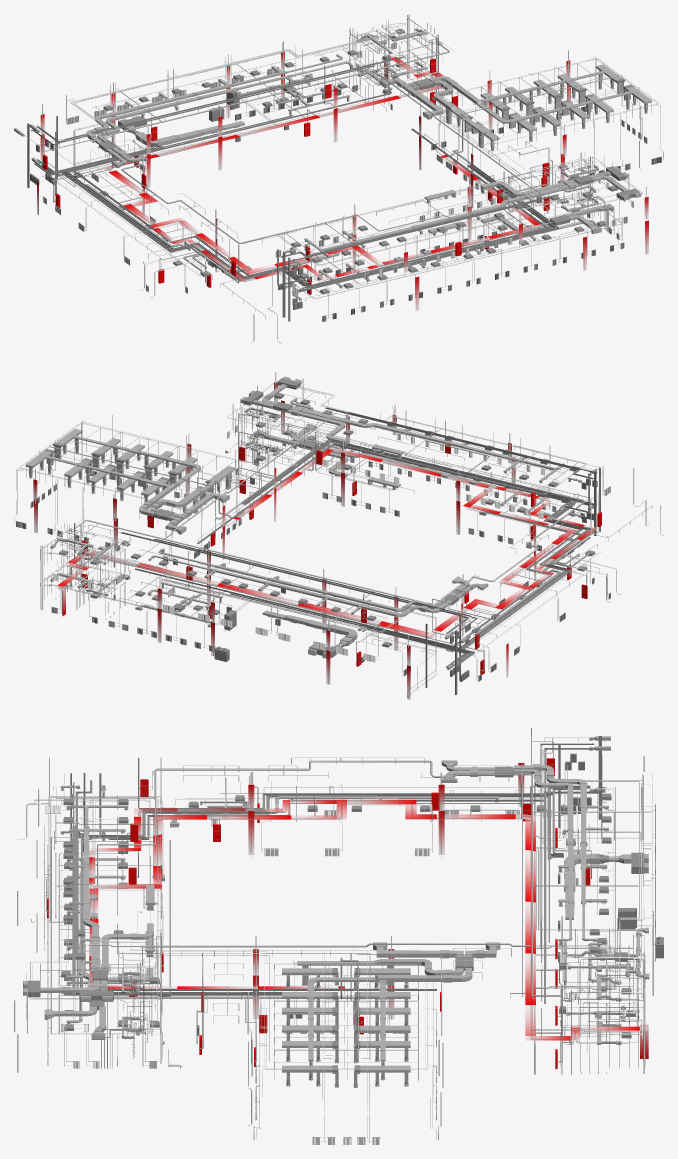
Rendered from jdtsg.gltf.
The picture shows the model from 3 angles, top to bottom: view 1: azimuth 30°, elevation 25°; view 2: azimuth 150°, elevation 25°; view 3: azimuth 270°, elevation 25°; orthographic projection. The views are drawn at different scales.
Visible parts, largest first — view 1: tsg2cjdxhs, tsg2cjdfg, tsg1cjdsg, tsg1cjdsglx, tsg2cjddw, tsg1cjdxhs, tsg2cjdxhs (1), tsg1cjdfg, tsg2cjdsg, tsg3cjddw, tsg2cjdsglx; view 2: tsg2cjdxhs, tsg2cjdfg, tsg1cjdsg, tsg1cjdsglx, tsg2cjddw, tsg1cjdxhs, tsg2cjdxhs (1), tsg1cjdfg, tsg2cjdsg, tsg3cjddw, tsg2cjdsglx; view 3: tsg2cjdfg, tsg2cjdxhs, tsg1cjdsg, tsg1cjdsglx, tsg2cjddw, tsg1cjdxhs, tsg1cjdfg, tsg2cjdxhs (1), tsg2cjdsg, tsg3cjddw.
Part boxes in pixels (<box>): tsg2cjdxhs: <box>22,14,661,280</box>; tsg2cjdfg: <box>14,28,651,267</box>; tsg1cjdsg: <box>38,45,663,343</box>; tsg1cjdsglx: <box>37,54,648,310</box>; tsg2cjddw: <box>27,92,558,296</box>; tsg1cjdxhs: <box>30,63,661,321</box>; tsg2cjdxhs (1): <box>36,28,641,295</box>; tsg1cjdfg: <box>32,61,613,300</box>; tsg2cjdsg: <box>42,25,660,300</box>; tsg3cjddw: <box>27,56,558,263</box>; tsg2cjdsglx: <box>40,51,648,272</box>; tsg2cjdxhs: <box>16,372,634,645</box>; tsg2cjdfg: <box>25,377,597,643</box>; tsg1cjdsg: <box>14,411,663,698</box>; tsg1cjdsglx: <box>34,400,597,699</box>; tsg2cjddw: <box>134,439,600,670</box>; tsg1cjdxhs: <box>16,423,610,681</box>; tsg2cjdxhs (1): <box>42,376,610,662</box>; tsg1cjdfg: <box>50,424,597,669</box>; tsg2cjdsg: <box>16,383,634,665</box>; tsg3cjddw: <box>121,407,600,636</box>; tsg2cjdsglx: <box>33,382,535,665</box>; tsg2cjdfg: <box>23,736,630,1087</box>; tsg2cjdxhs: <box>26,728,655,1071</box>; tsg1cjdsg: <box>14,771,655,1142</box>; tsg1cjdsglx: <box>89,763,648,1058</box>; tsg2cjddw: <box>70,744,602,1003</box>; tsg1cjdxhs: <box>44,788,663,1144</box>; tsg1cjdfg: <box>44,788,648,1044</box>; tsg2cjdxhs (1): <box>23,753,655,1073</box>; tsg2cjdsg: <box>25,747,655,1098</box>; tsg3cjddw: <box>70,736,602,969</box>.
Bounding box in the file's own units: 74.66 × 9.25 × 60.54.
13 materials, 3 textured.
